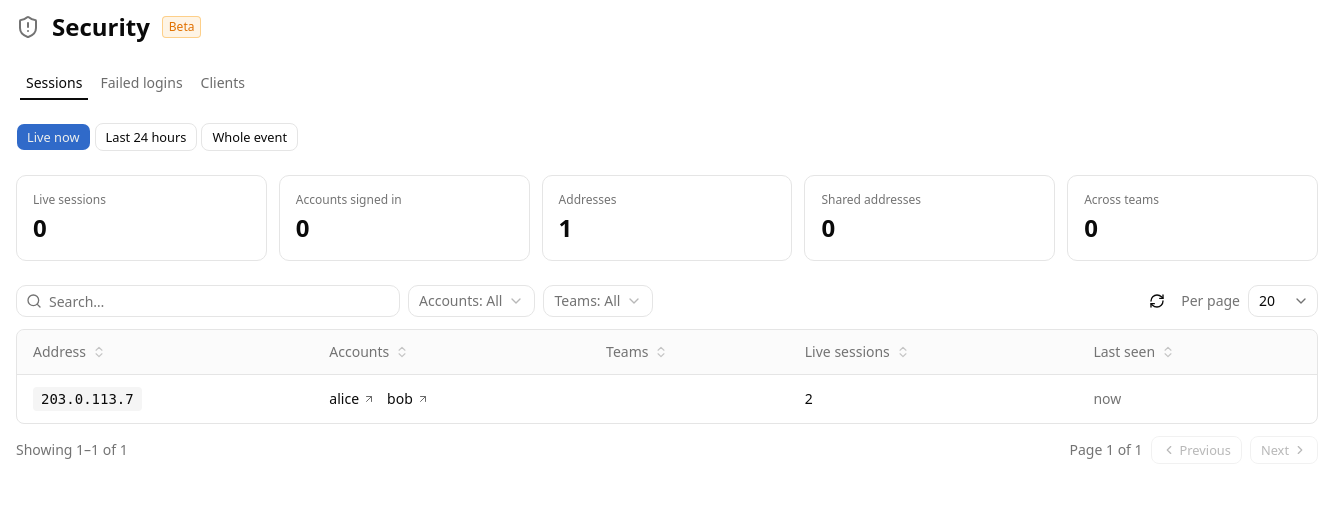
lists addresses that tried several usernames first
Click the tab "Failed logins": (142, 83) [93,70,190,96]
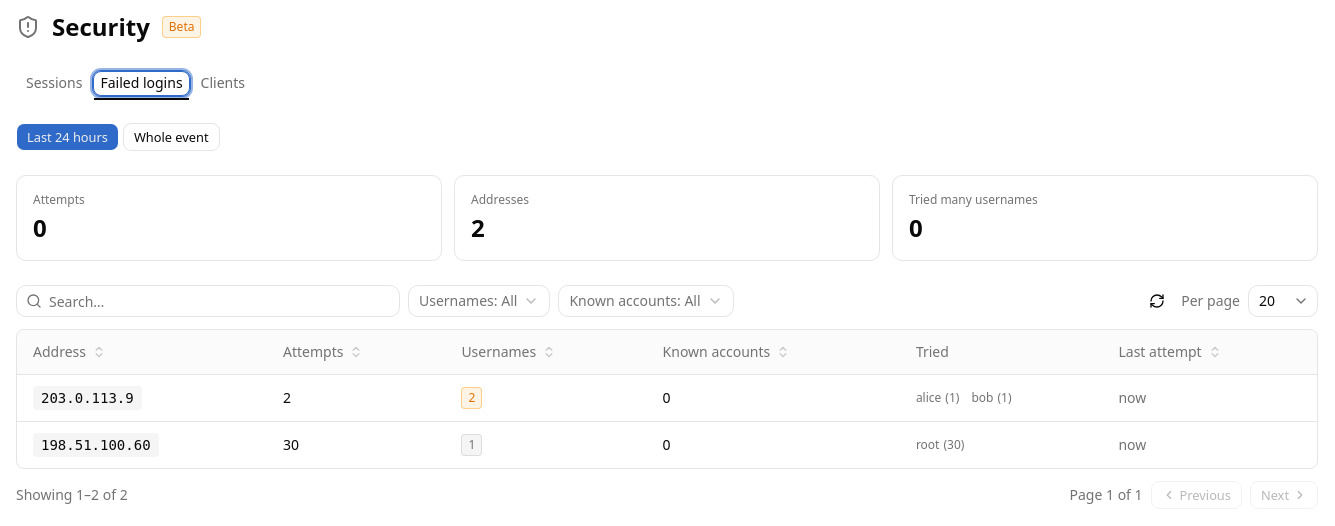
Expected: the text "198.51.100.60" is shown, [33,433,159,457]
